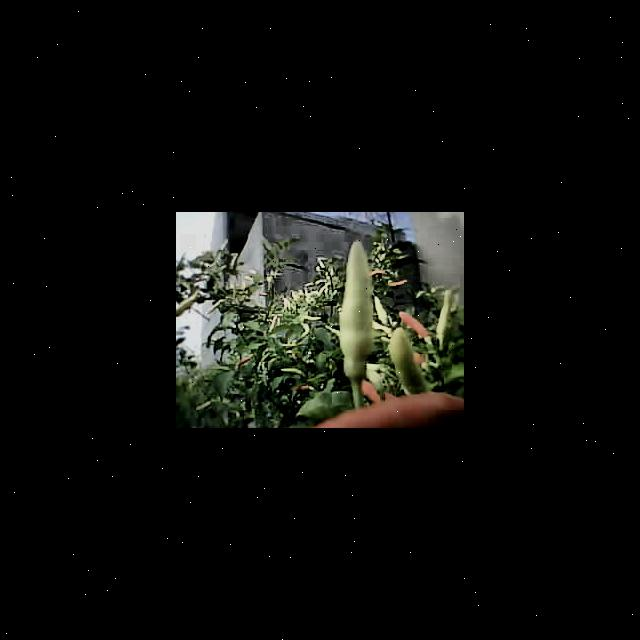Cabai: (318, 393, 455, 428), (399, 310, 434, 337)
